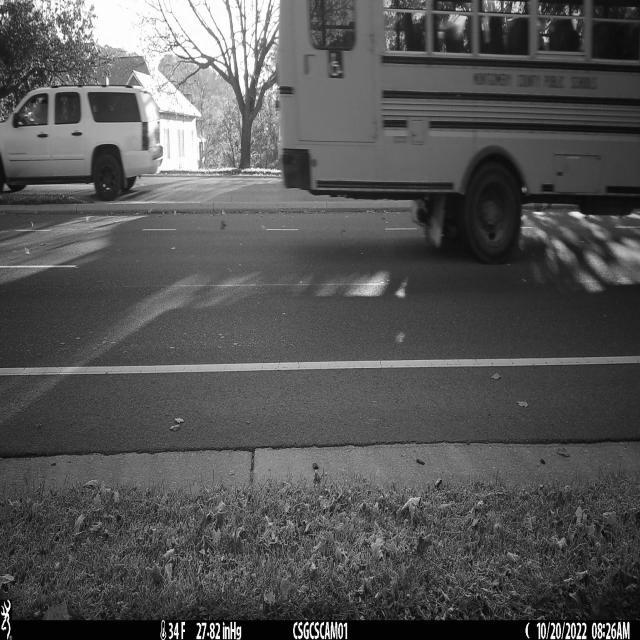Bus: (276, 0, 640, 264)
SUV: (0, 85, 164, 202)
